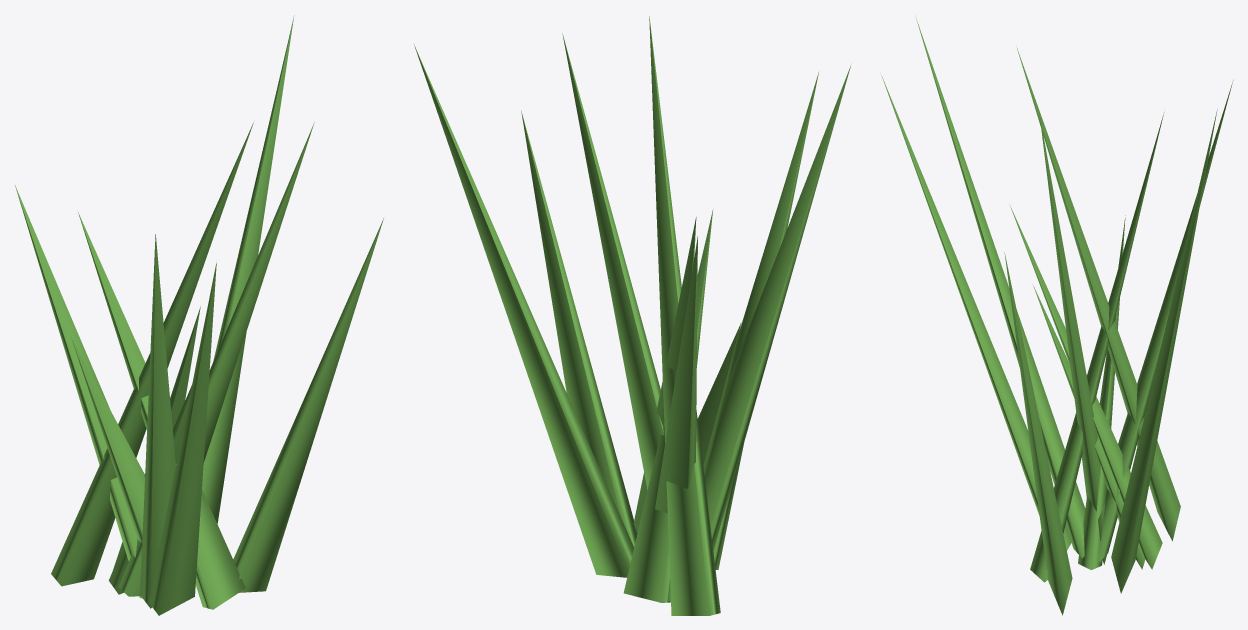
Rendered from grass-tuft.glb.
3 renders of one model, left to right at view 1: azimuth 30°, elevation 25°; view 2: azimuth 150°, elevation 25°; view 3: azimuth 270°, elevation 25°, orthographic. The views are drawn at different scales.
Parts seen in each view (by area): view 1: grass; view 2: grass; view 3: grass.
Boxes of the visible parts, <box> form: grass: <box>15,15,383,615</box>; grass: <box>414,16,850,615</box>; grass: <box>881,18,1233,615</box>.
Size of the model in its own units: 0.457 by 0.8008 by 0.4561.
